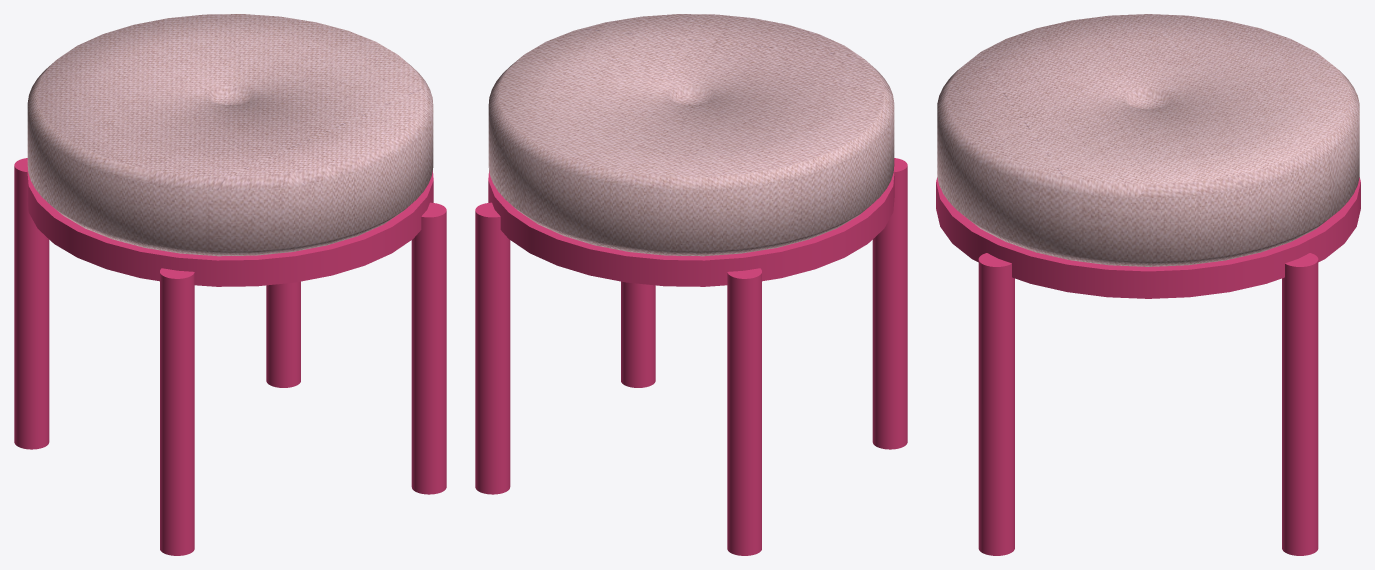
Rendered from furniture_seating_210050.glb.
The picture shows the model from 3 angles, left to right: view 1: azimuth 30°, elevation 25°; view 2: azimuth 150°, elevation 25°; view 3: azimuth 270°, elevation 25°; orthographic projection. The views are drawn at different scales.
Visible parts, largest first — view 1: furniture_seating_210050; view 2: furniture_seating_210050; view 3: furniture_seating_210050.
Part boxes in pixels (x1,y1,x2,y2): furniture_seating_210050: [14, 14, 446, 555]; furniture_seating_210050: [475, 14, 907, 555]; furniture_seating_210050: [936, 14, 1360, 555].
Size of the model in its own units: 0.336 by 0.336 by 0.336.
Materials: 1 (1 with a texture image).
